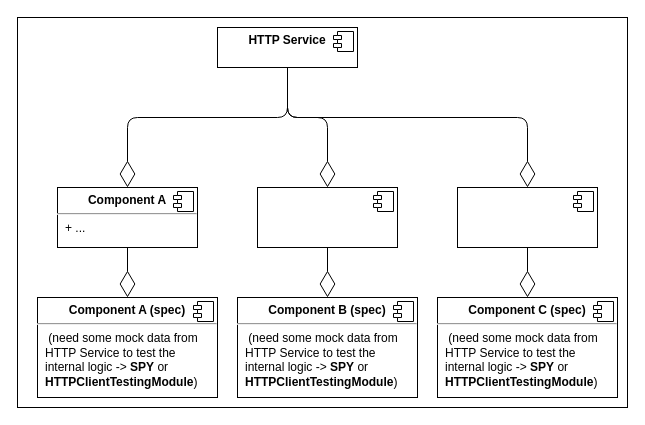
Some shapes in this 645 by 425 pixel diagram are drawn without their labels. The centre of each missing label's shape, as x and y in pixels:
Component B + ...: point 327,217
Component C + ...: point 527,217
